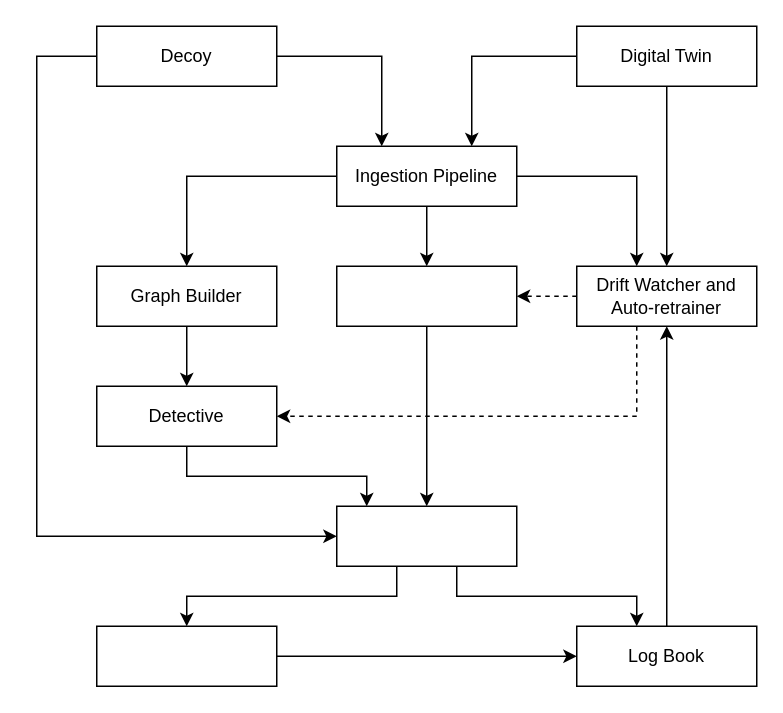
Some shapes in this 783 by 713 pixel diagram are drawn without their labels. Each missing label, with the centre of its shape:
"Bouncer" belongs at pixel 426 295.
"LLM Explainer" belongs at pixel 186 655.
"Response Engine" belongs at pixel 426 535.
